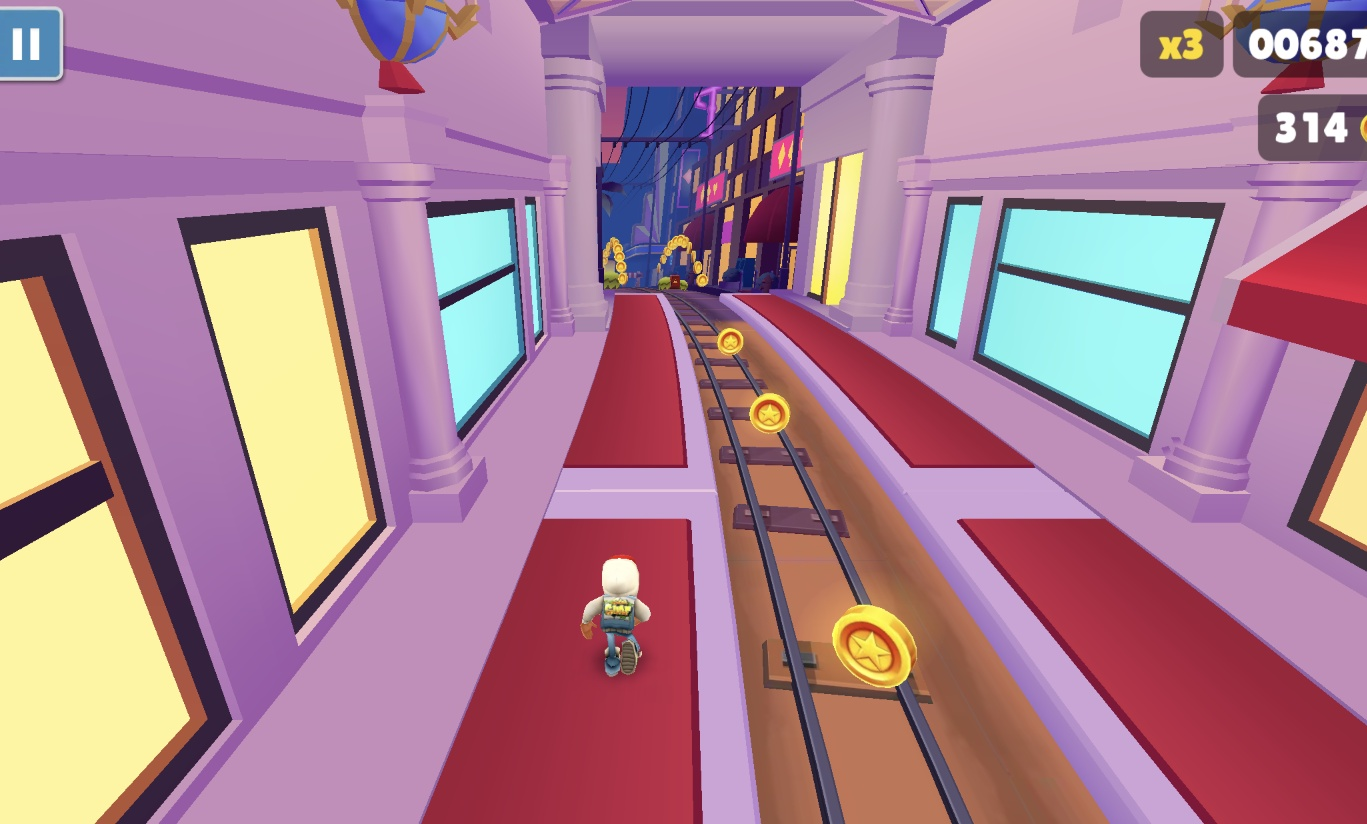bush: (658, 276, 691, 293), (603, 276, 624, 292)
ground_barrier: (627, 271, 643, 289)
small_obstacle: (671, 276, 682, 292)
